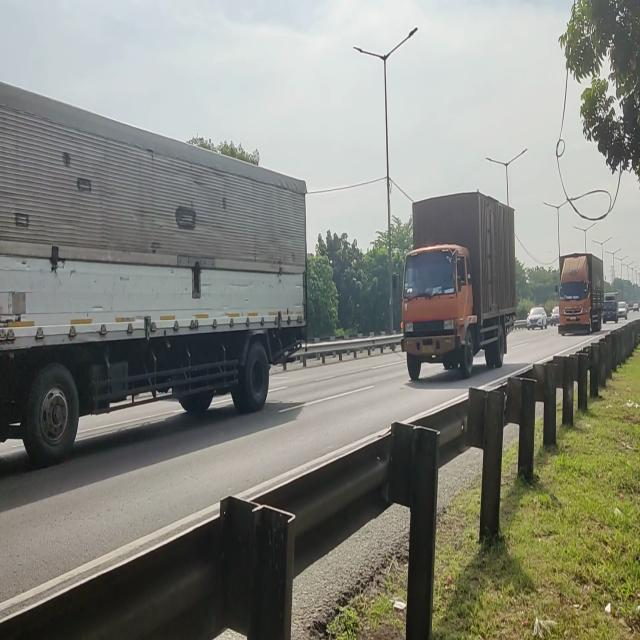Golongan II: (400, 204, 516, 382)
